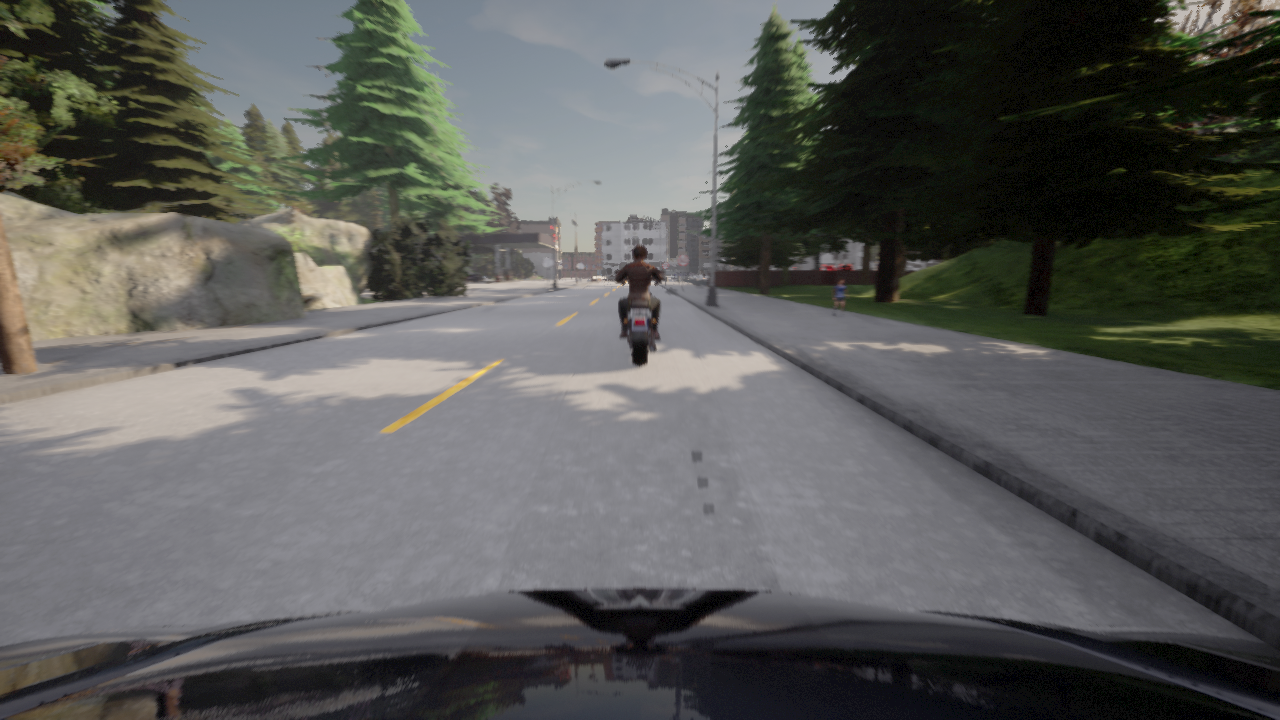cyclist: (0, 588, 1279, 719), (615, 269, 664, 365), (466, 271, 483, 281), (672, 272, 686, 275), (685, 273, 696, 275)
pedestrian: (832, 277, 848, 316)
